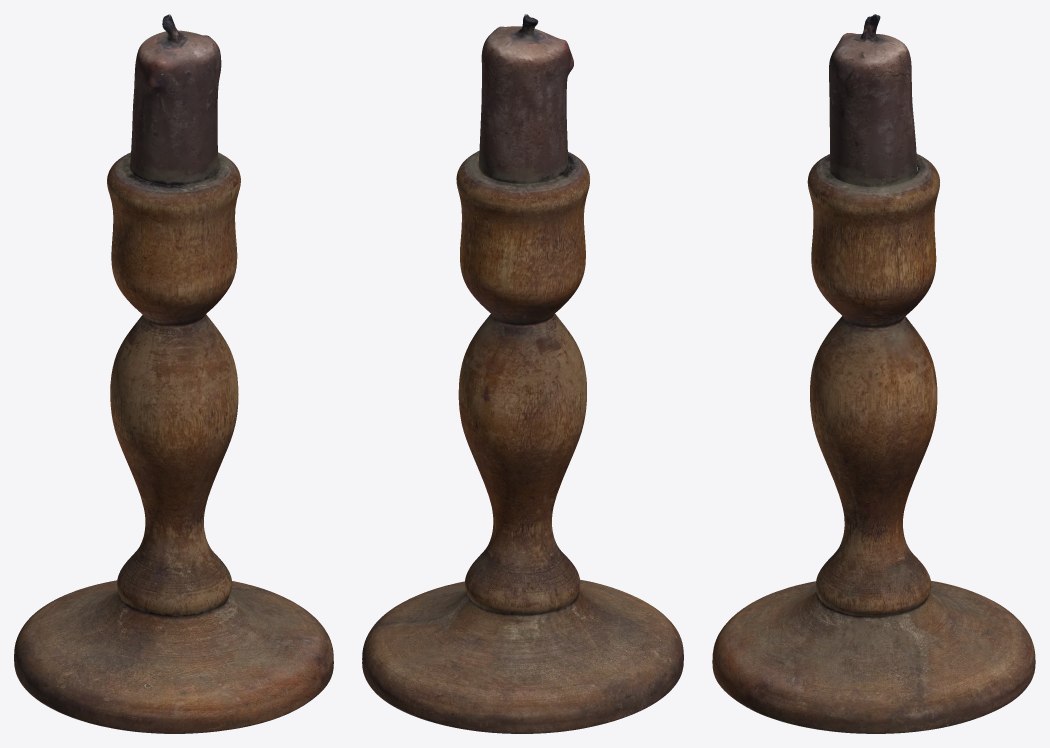
The model's file is wooden_candlestick.glb.
3 renders of one model, left to right at view 1: azimuth 30°, elevation 25°; view 2: azimuth 150°, elevation 25°; view 3: azimuth 270°, elevation 25°, orthographic.
Parts seen in each view (by area): view 1: wooden_candlestick; view 2: wooden_candlestick; view 3: wooden_candlestick.
Boxes of the visible parts, <box> form: wooden_candlestick: <box>14,14,333,733</box>; wooden_candlestick: <box>362,14,683,733</box>; wooden_candlestick: <box>712,14,1035,733</box>.
Bounding box in the file's own units: 0.0972 × 0.2197 × 0.0987.
1 material, 1 textured.
